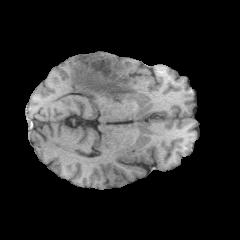glioma: (70, 53, 136, 104)
